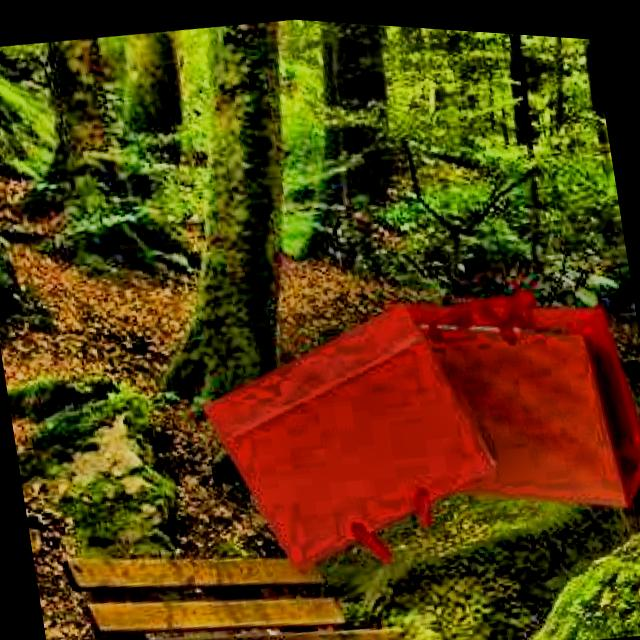Paper-bag: (178, 238, 640, 606)
